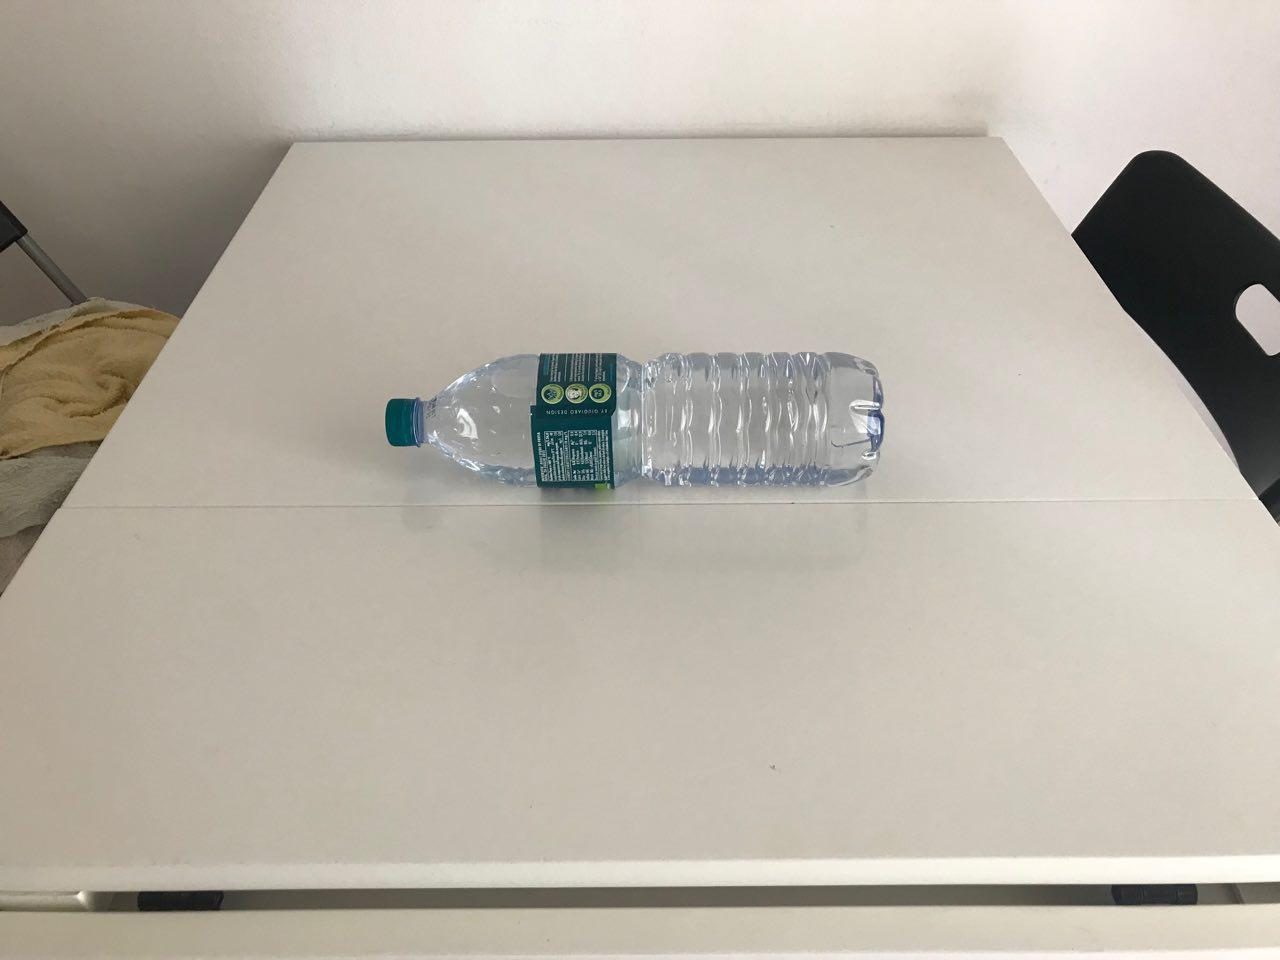san_bernardo: (385, 351, 885, 491)
